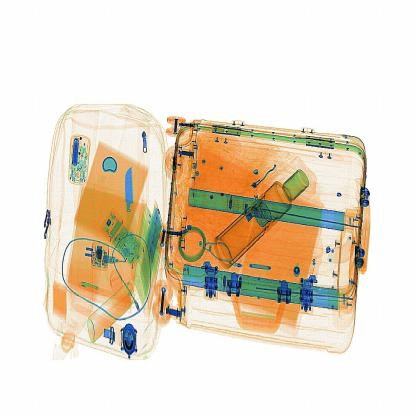wrench: (122, 162, 138, 226)
